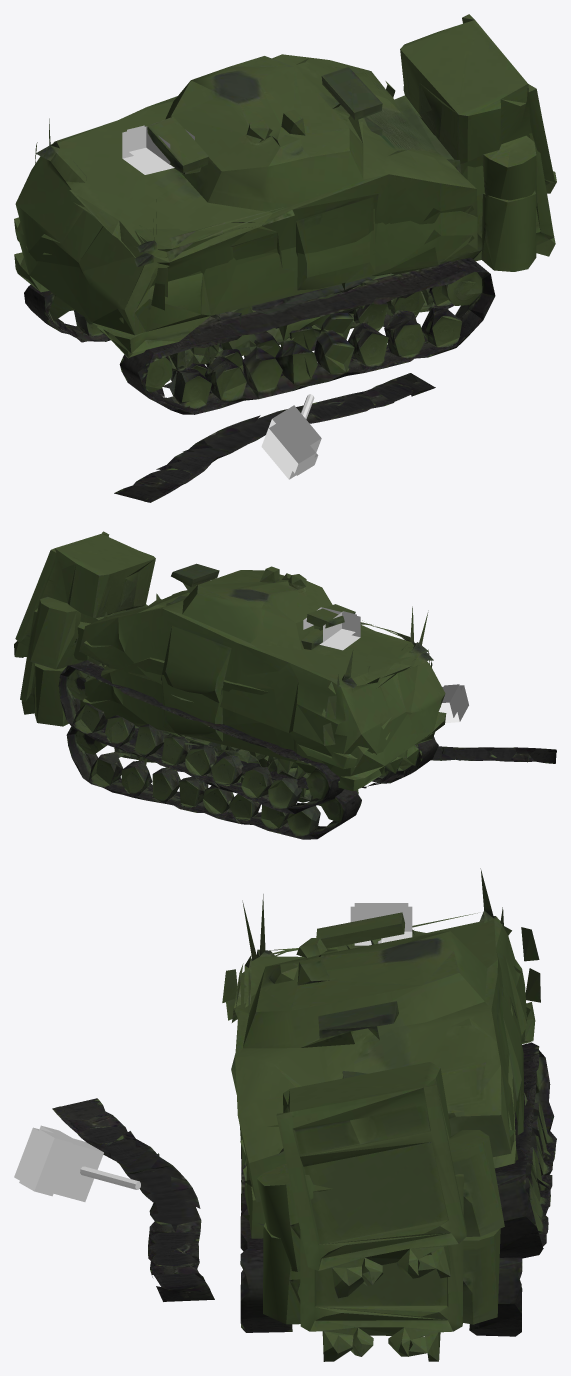
Rendered from demo_tzav.glb.
The picture shows the model from 3 angles, top to bottom: view 1: azimuth 30°, elevation 25°; view 2: azimuth 150°, elevation 25°; view 3: azimuth 270°, elevation 25°; orthographic projection. The views are drawn at different scales.
Parts seen in each view (by area): view 1: WRECK_hull_hull, hull_rubber, hull_hull, WRECK_hull_rubber, WRECK_turret_metal, WRECK_turret_plate, turret_metal, turret_plate; view 2: WRECK_hull_hull, hull_hull, WRECK_hull_rubber, hull_rubber, turret_metal, WRECK_turret_metal, turret_plate, WRECK_turret_plate; view 3: WRECK_hull_hull, hull_hull, WRECK_hull_rubber, hull_rubber, WRECK_turret_metal, WRECK_turret_plate, turret_plate.
Part boxes in pixels (x1,y1,x2,y2): WRECK_hull_hull: (15,14,556,381); hull_rubber: (14,244,495,414); hull_hull: (16,116,555,371); WRECK_hull_rubber: (14,216,482,502); WRECK_turret_metal: (261,394,321,479); WRECK_turret_plate: (265,417,318,475); turret_metal: (122,126,194,174); turret_plate: (127,125,170,169); WRECK_hull_hull: (14,531,440,788); hull_hull: (20,595,445,800); WRECK_hull_rubber: (58,645,556,813); hull_rubber: (66,703,446,839); turret_metal: (303,607,360,650); WRECK_turret_metal: (438,685,468,723); turret_plate: (323,611,356,645); WRECK_turret_plate: (442,684,463,717); WRECK_hull_hull: (226,868,539,1298); hull_hull: (222,894,540,1361); WRECK_hull_rubber: (52,1002,556,1301); hull_rubber: (240,1147,522,1336); WRECK_turret_metal: (14,1127,140,1201); WRECK_turret_plate: (19,1125,72,1196); turret_plate: (350,906,412,941).
Size of the model in its own units: 9.79 by 4.41 by 7.08.
1 material, 1 textured.
